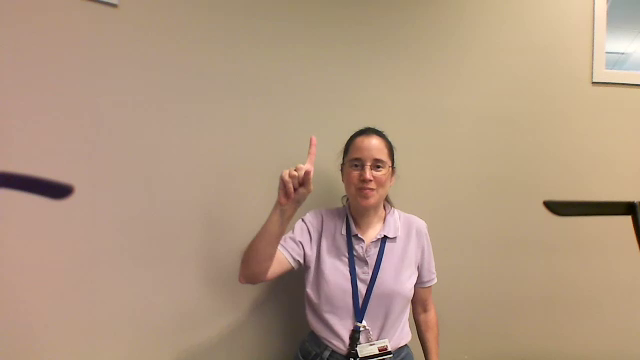up: (274, 130, 320, 209)
